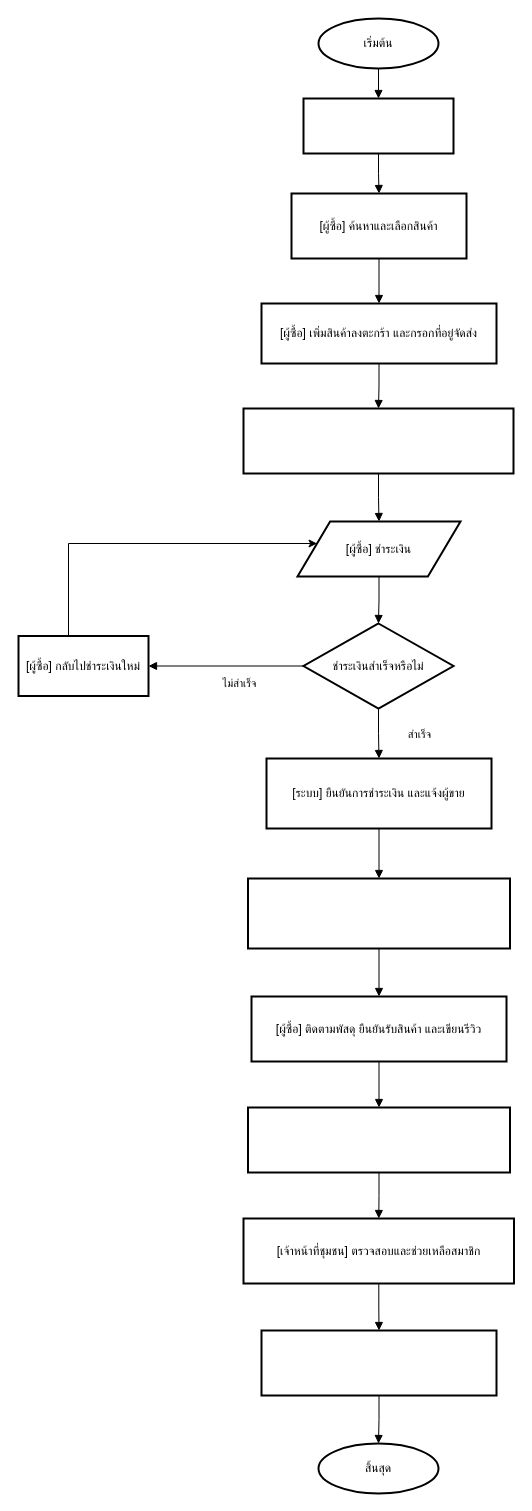
This 532x1511 diagram has some shape labels left out. The shapes that lost their labels are listed below. From the top down, each one's box as (x1, y1, x2, y2) in pixels, then its label:
(302, 97, 454, 154): สมัครสมาชิก / เข้าสู่ระบบ
(242, 407, 514, 474): [ผู้ซื้อ] ตรวจสอบคำสั่งซื้อ และเลือกวิธีชำระเงิน
(246, 877, 510, 949): [ผู้ขาย] ตรวจสอบคำสั่งซื้อ เตรียมสินค้า และจัดส่ง
(246, 1106, 510, 1173): [ระบบ] อัปเดตสถานะคำสั่งซื้อ และส่งการแจ้งเตือน
(260, 1329, 497, 1396): [เจ้าของระบบ] จัดการผู้ใช้ สินค้า และข่าวสาร
